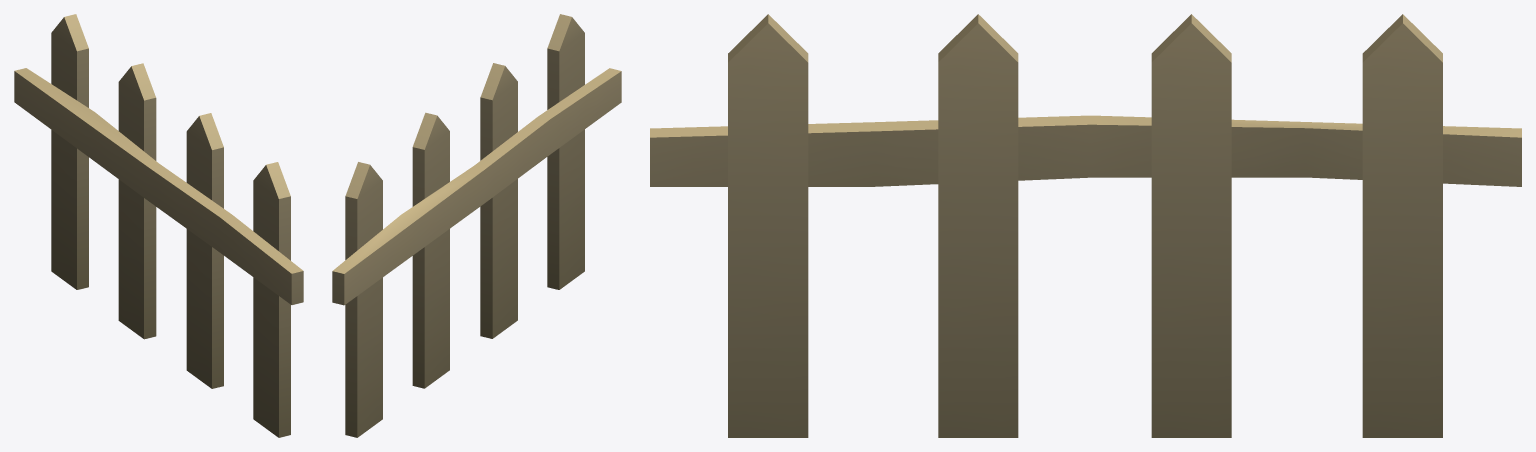
The model's file is TSP_Fence_Wood_01A.fbx.
3 views of the same model, side by side, from view 1: azimuth 30°, elevation 25°; view 2: azimuth 150°, elevation 25°; view 3: azimuth 270°, elevation 25° (orthographic). The views are drawn at different scales.
Visible parts, largest first — view 1: TSP_Fence_Wood_01A; view 2: TSP_Fence_Wood_01A; view 3: TSP_Fence_Wood_01A.
Boxes of the visible parts, x1,y1,x2,y2 form: TSP_Fence_Wood_01A: (14,14,303,437); TSP_Fence_Wood_01A: (332,14,621,437); TSP_Fence_Wood_01A: (650,14,1521,437).
Size of the model in its own units: 0.1188 by 1.05 by 2.
